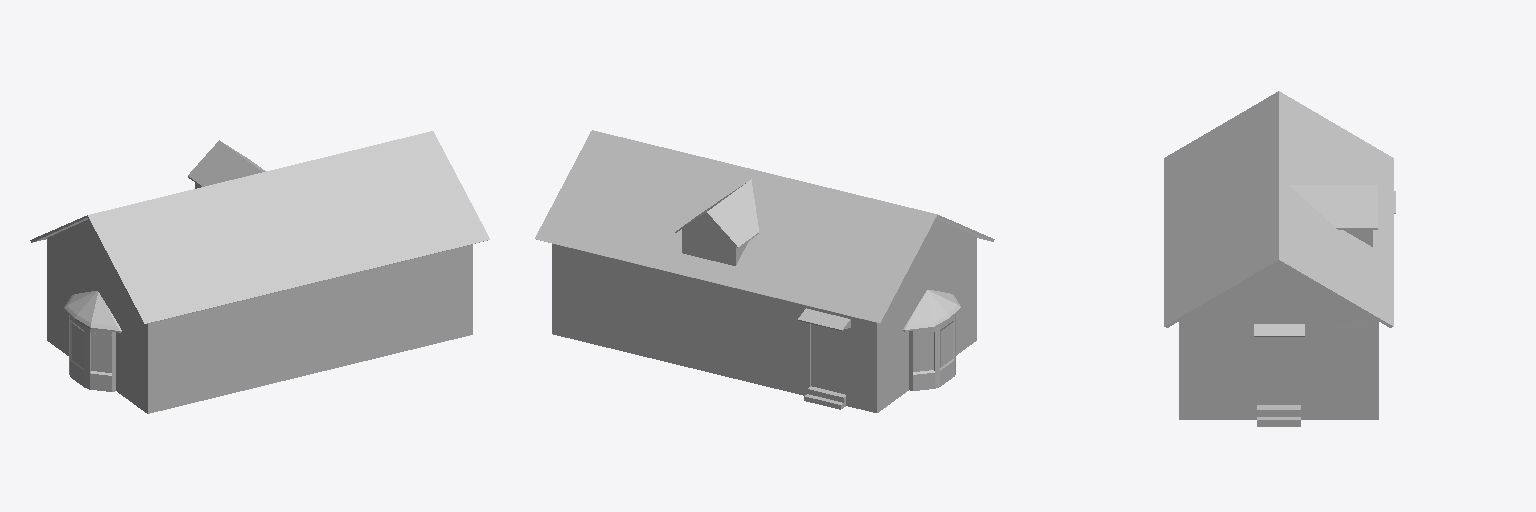
The model's file is house.obj.
3 views of the same model, side by side, from view 1: azimuth 30°, elevation 25°; view 2: azimuth 150°, elevation 25°; view 3: azimuth 270°, elevation 25° (orthographic).
Visible parts, largest first — view 1: Cube_Cube.002; view 2: Cube_Cube.002; view 3: Cube_Cube.002.
Boxes of the visible parts, x1,y1,x2,y2 form: Cube_Cube.002: [30, 131, 489, 413]; Cube_Cube.002: [535, 130, 994, 412]; Cube_Cube.002: [1164, 91, 1395, 426].
Bounding box in the file's own units: 33.81 × 14.67 × 18.66.